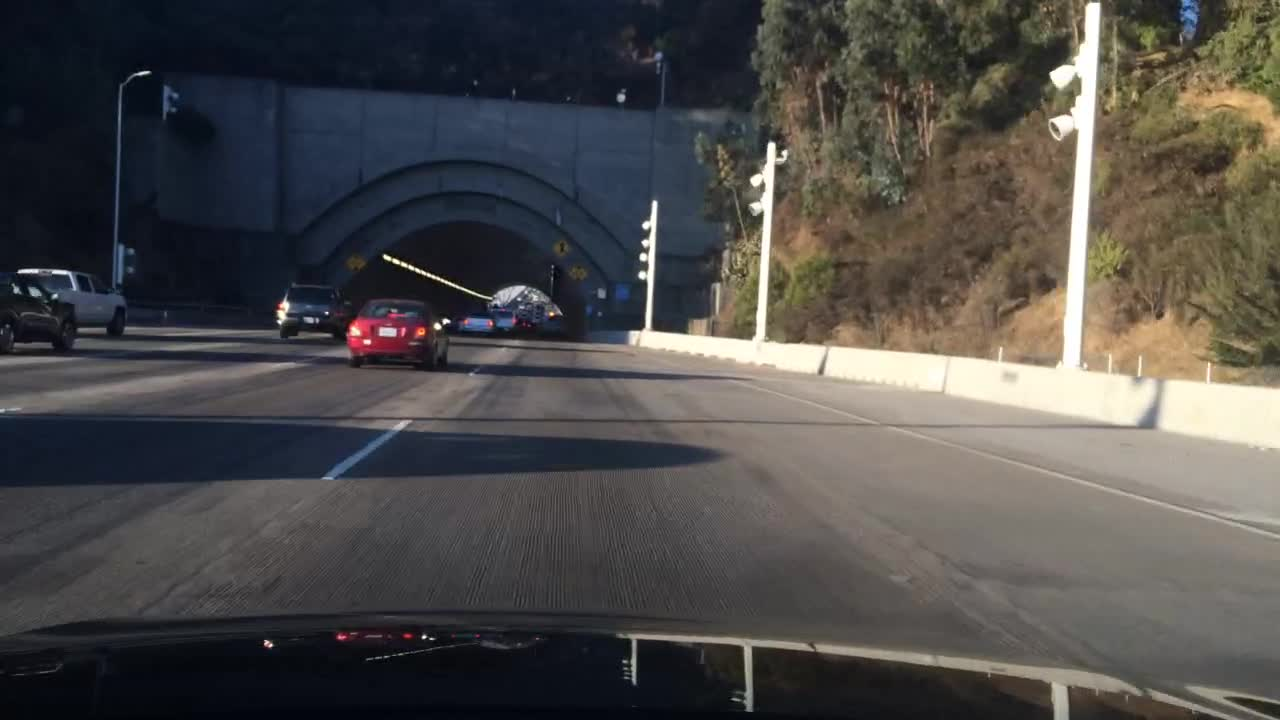car: (12, 267, 130, 338), (343, 296, 449, 369), (0, 272, 76, 354), (275, 282, 351, 341), (444, 308, 497, 335), (510, 318, 534, 335)
traffic light: (161, 84, 179, 124)
traffic sign: (549, 236, 569, 256), (346, 253, 365, 271), (567, 265, 589, 279), (616, 283, 630, 299), (595, 287, 606, 299)
